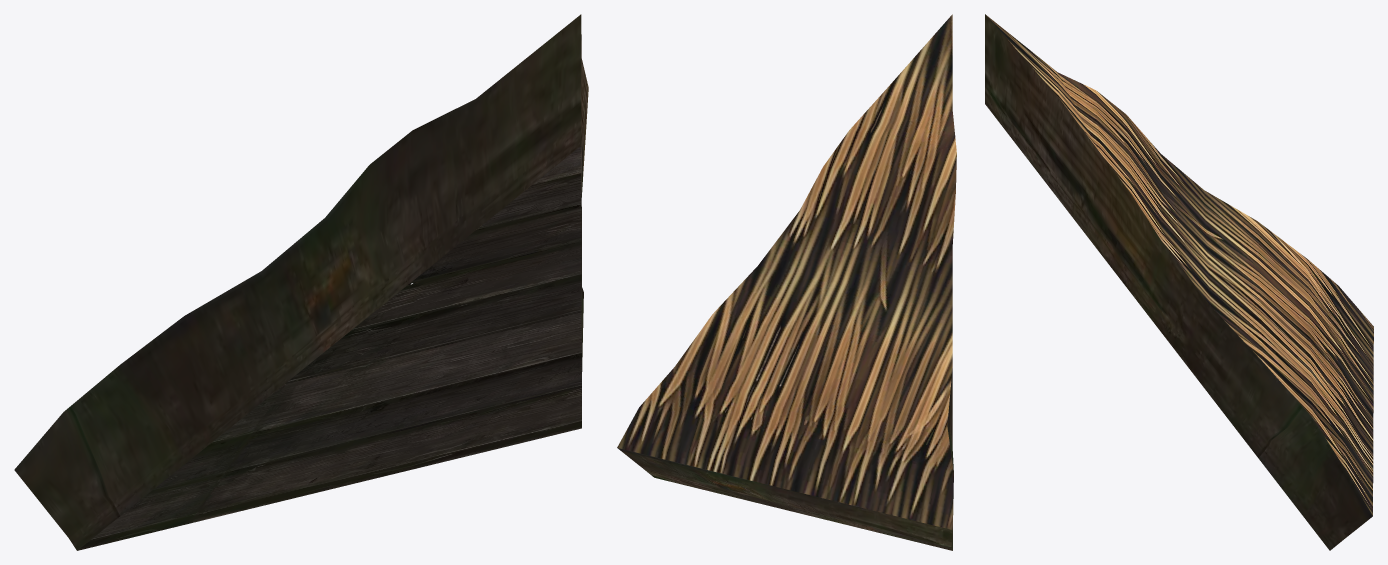
3 renders of one model, left to right at view 1: azimuth 30°, elevation 25°; view 2: azimuth 150°, elevation 25°; view 3: azimuth 270°, elevation 25°, orthographic. The views are drawn at different scales.
Visible parts, largest first — view 1: SM_BB_T1_Extended_Roof_Triangle_Med_Inverted_LOD0; view 2: SM_BB_T1_Extended_Roof_Triangle_Med_Inverted_LOD0; view 3: SM_BB_T1_Extended_Roof_Triangle_Med_Inverted_LOD0.
Part boxes in pixels (bbox=[...]): SM_BB_T1_Extended_Roof_Triangle_Med_Inverted_LOD0: bbox=[14, 14, 588, 550]; SM_BB_T1_Extended_Roof_Triangle_Med_Inverted_LOD0: bbox=[617, 14, 956, 550]; SM_BB_T1_Extended_Roof_Triangle_Med_Inverted_LOD0: bbox=[985, 14, 1373, 550].
Bounding box in the file's own units: 1.69 × 1.88 × 1.47.
3 materials, 3 textured.
